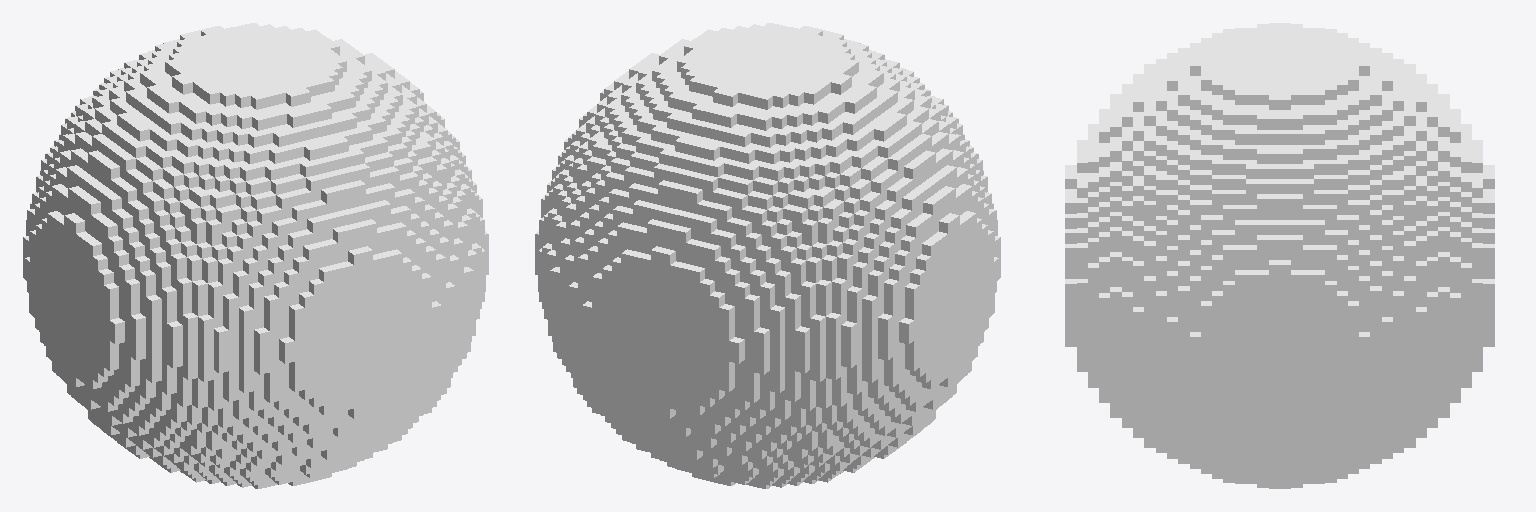
Rendered from восьмерка.obj.
3 views of the same model, side by side, from view 1: azimuth 30°, elevation 25°; view 2: azimuth 150°, elevation 25°; view 3: azimuth 270°, elevation 25° (orthographic).
Parts seen in each view (by area): view 1: object 1; view 2: object 1; view 3: object 1.
Boxes of the visible parts, <box> form: object 1: <box>23,23,488,488</box>; object 1: <box>535,23,1000,488</box>; object 1: <box>1065,23,1494,488</box>.
Bounding box in the file's own units: 3.8 × 3.8 × 3.8.